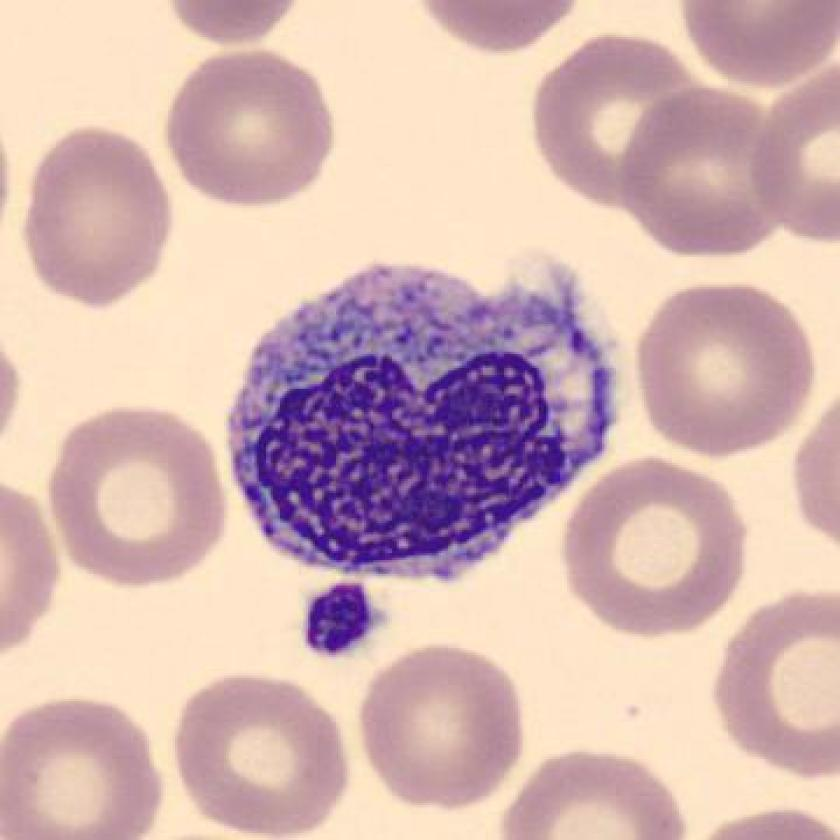monocyte: (209, 239, 645, 605)
